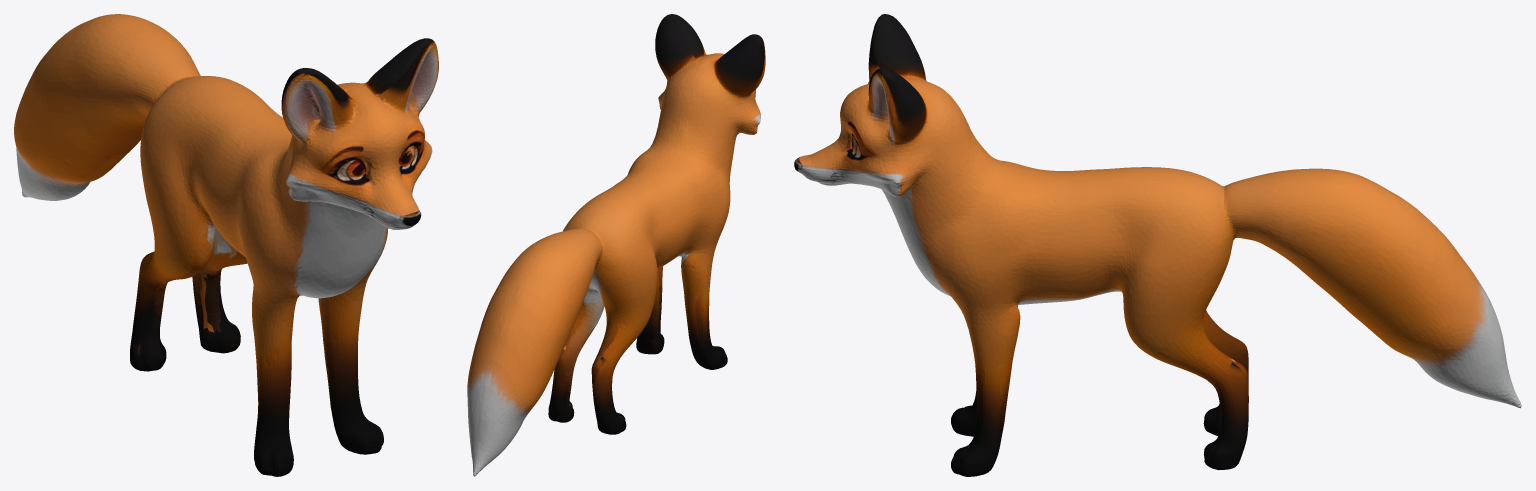
Rendered from w_fox.glb.
3 renders of one model, left to right at view 1: azimuth 30°, elevation 25°; view 2: azimuth 150°, elevation 25°; view 3: azimuth 270°, elevation 25°, orthographic. The views are drawn at different scales.
Visible parts, largest first — view 1: textured_mesh.obj; view 2: textured_mesh.obj; view 3: textured_mesh.obj.
Boxes of the visible parts, x1,y1,x2,y2 form: textured_mesh.obj: (14, 14, 438, 476); textured_mesh.obj: (467, 14, 765, 476); textured_mesh.obj: (794, 14, 1521, 476).
Bounding box in the file's own units: 0.4531 × 1.23 × 1.99.
Materials: 1 (1 with a texture image).
